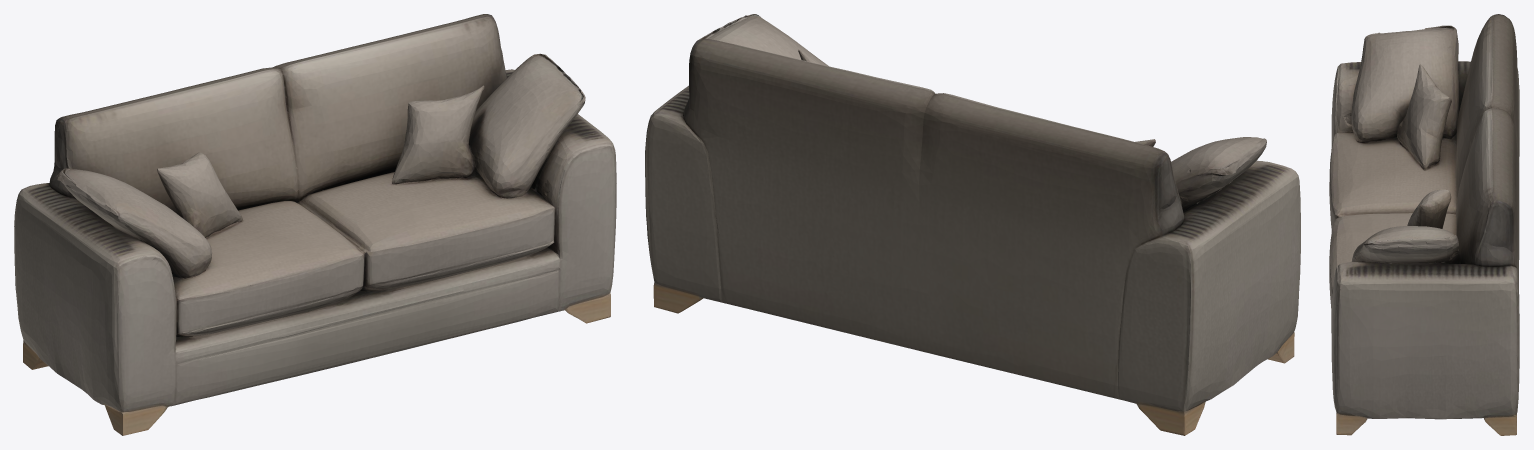
File: sofa.glb
3 views of the same model, side by side, from view 1: azimuth 30°, elevation 25°; view 2: azimuth 150°, elevation 25°; view 3: azimuth 270°, elevation 25° (orthographic). The views are drawn at different scales.
Visible parts, largest first — view 1: world; view 2: world; view 3: world.
Part boxes in pixels (left/top/right/bottom): world: left=14, top=14, right=616, bottom=435; world: left=645, top=14, right=1300, bottom=435; world: left=1329, top=14, right=1519, bottom=435.
Bounding box in the file's own units: 0.2958 × 0.1375 × 0.1062.
Materials: 1 (1 with a texture image).
